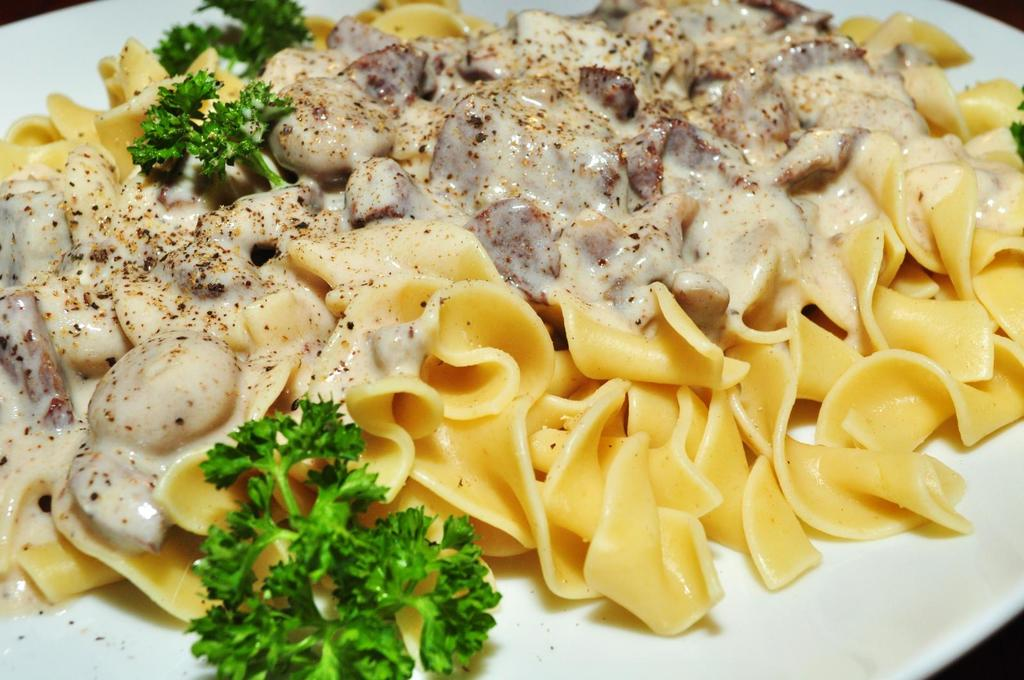pasta: (0, 0, 1023, 664)
